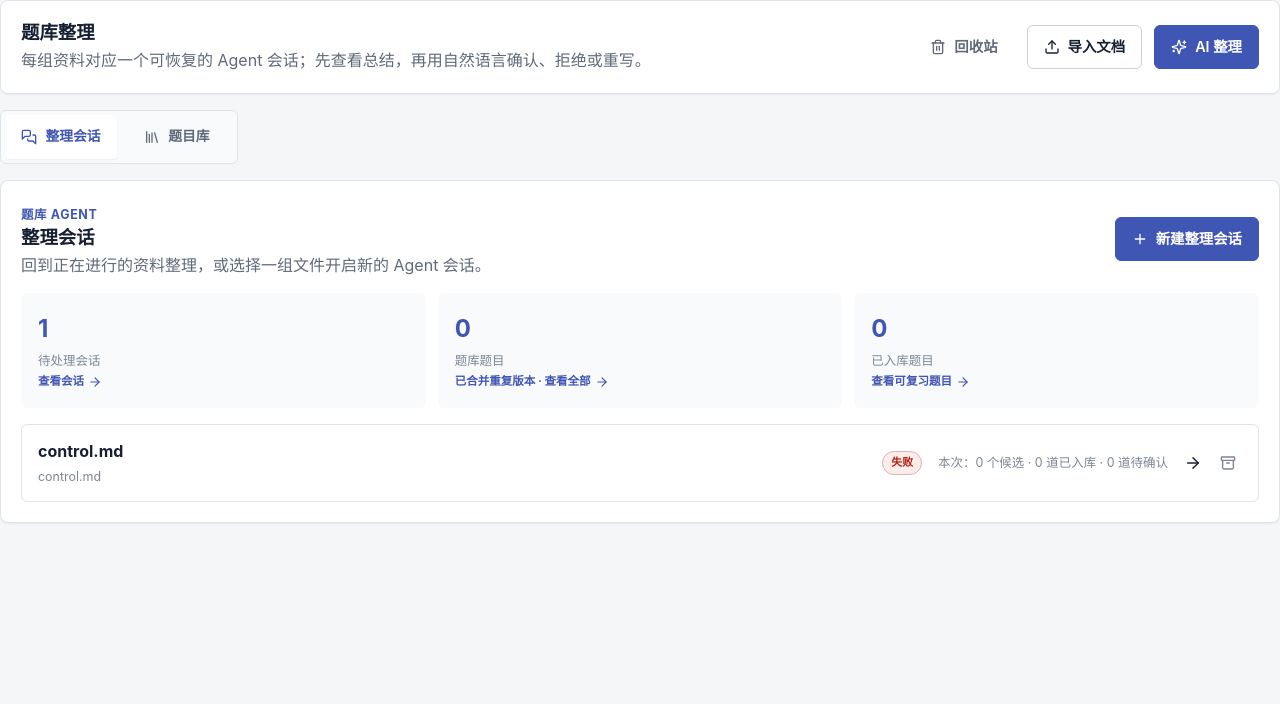
it: QuestionCatalog › shows safe recovery guidance when resume fails
The width and height of the screenshot is (1280, 704).
Click the button "control.md control.md 失败 本次：0 个候选 · 0 道已入库 · 0 道待确认" at [81, 451], box [22,425,1258,501]
(page scrolled)
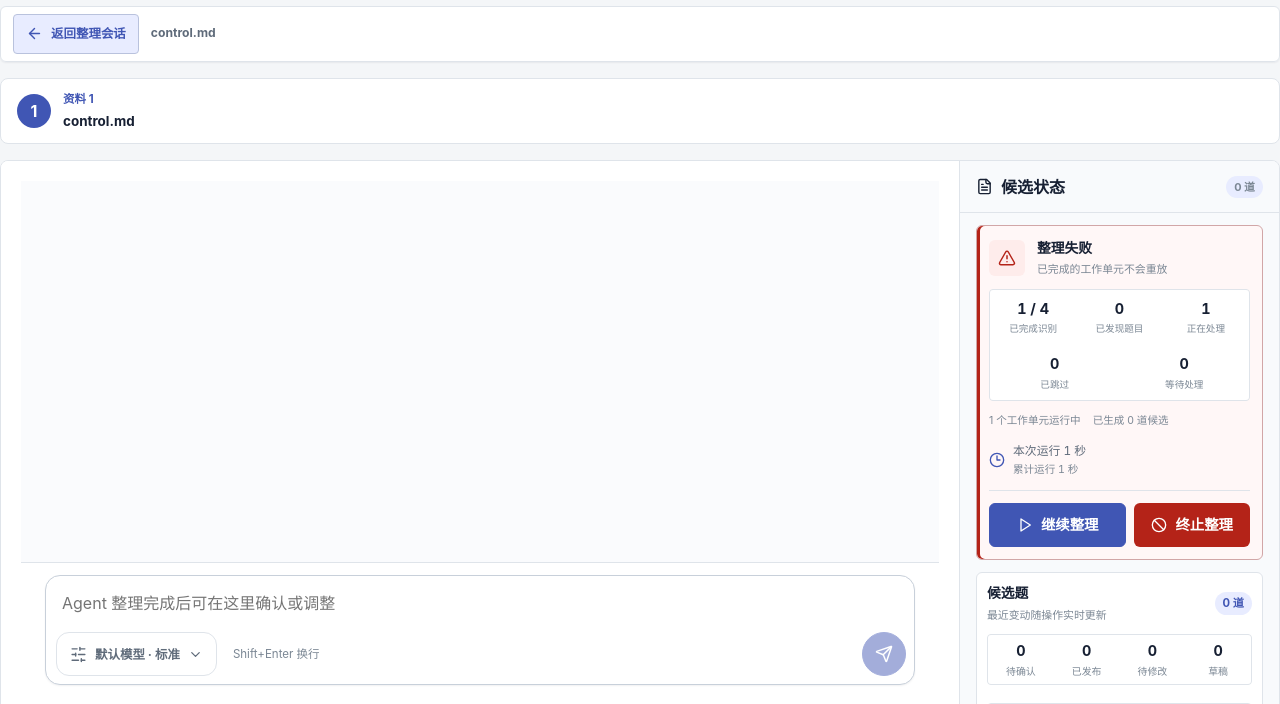
Click the button "继续整理" at [1058, 526], box [989,504,1126,548]
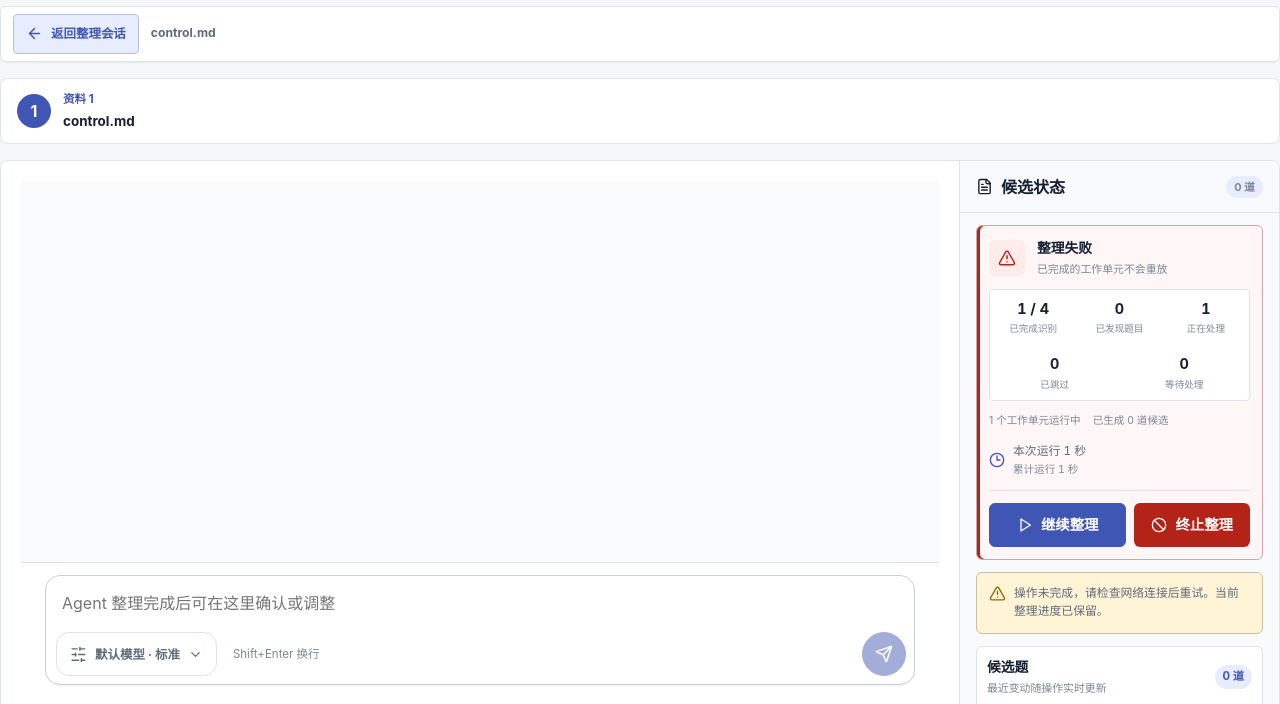
Check: the message named "整理控制提示" does not show "SQLITE secret table leaked", box [976,572,1263,634]
Check: the message named "整理控制提示" reads "操作未完成，请检查网络连接后重试。当前整理进度已保留。", box [1014,586,1239,618]
